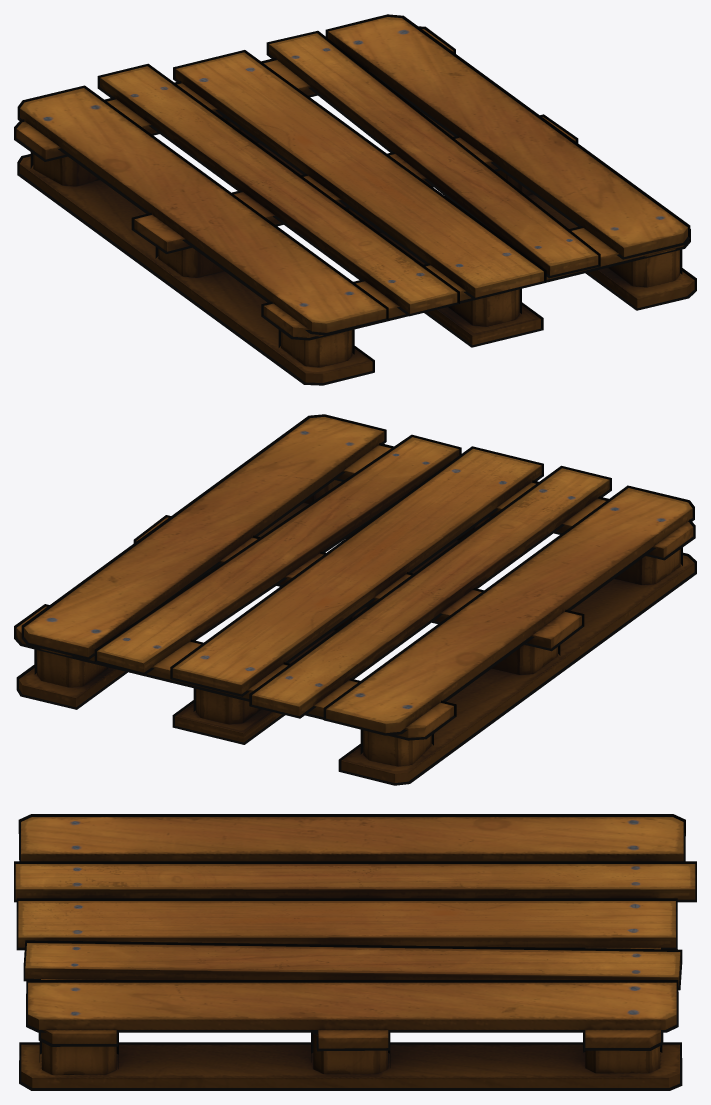
The model's file is Palé_NK.fbx.
3 renders of one model, top to bottom at view 1: azimuth 30°, elevation 25°; view 2: azimuth 150°, elevation 25°; view 3: azimuth 270°, elevation 25°, orthographic. The views are drawn at different scales.
Visible parts, largest first — view 1: Palé, Palé001; view 2: Palé, Palé001; view 3: Palé, Palé001.
Boxes of the visible parts, x1,y1,x2,y2 form: Palé: [16, 17, 694, 382]; Palé001: [14, 14, 696, 385]; Palé: [16, 417, 694, 782]; Palé001: [14, 414, 696, 785]; Palé: [15, 817, 695, 1087]; Palé001: [14, 814, 696, 1090].
Bounding box in the file's own units: 38.14 × 5.72 × 49.45.
